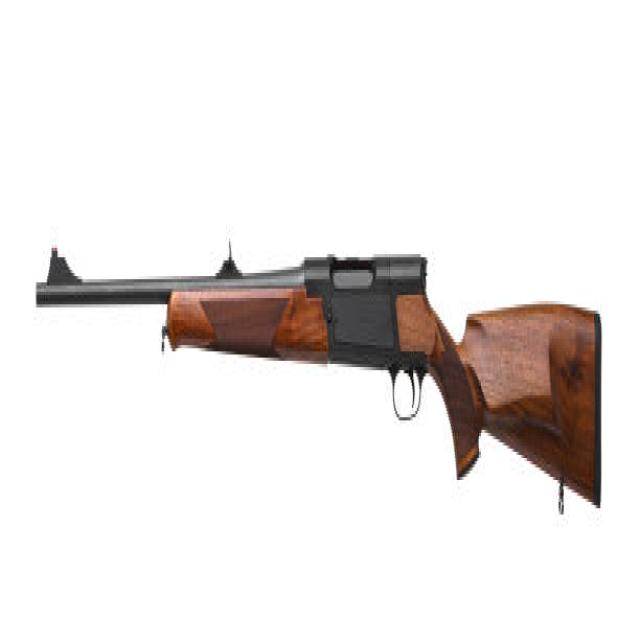rifle: (32, 217, 608, 542)
